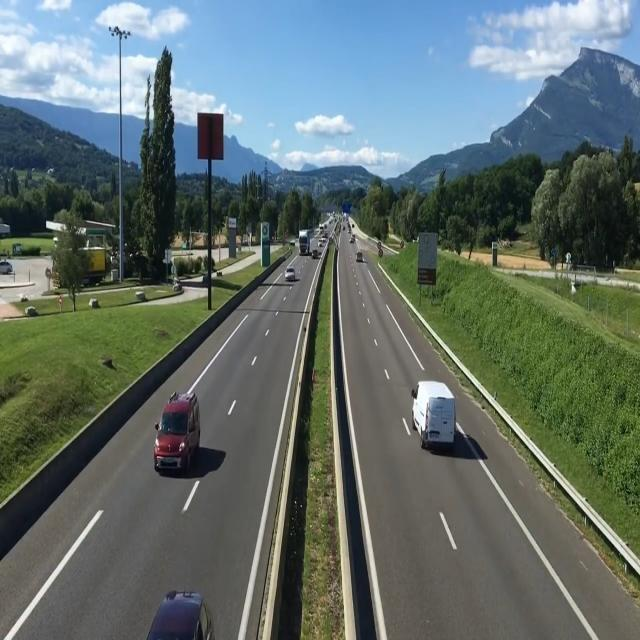Car: (284, 266, 297, 281)
Truck: (298, 229, 311, 257)
Van: (152, 391, 200, 475), (411, 379, 459, 448)
